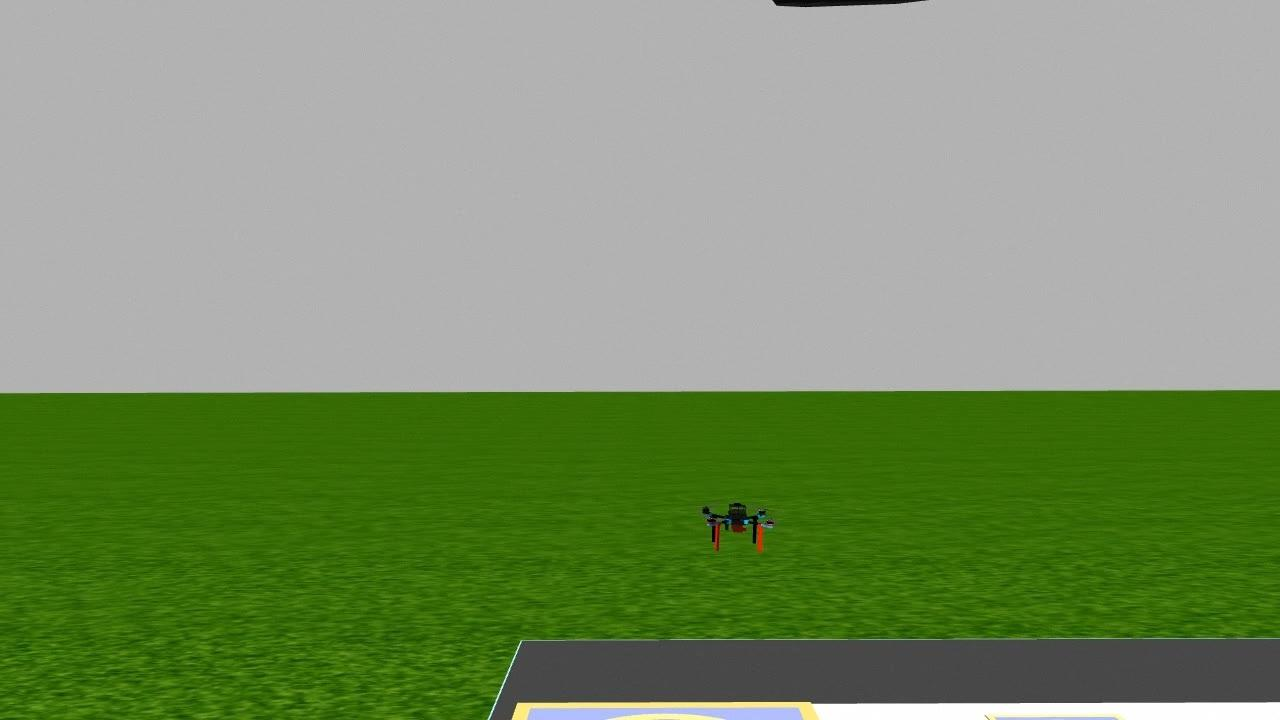UAV: (691, 488, 787, 569)
